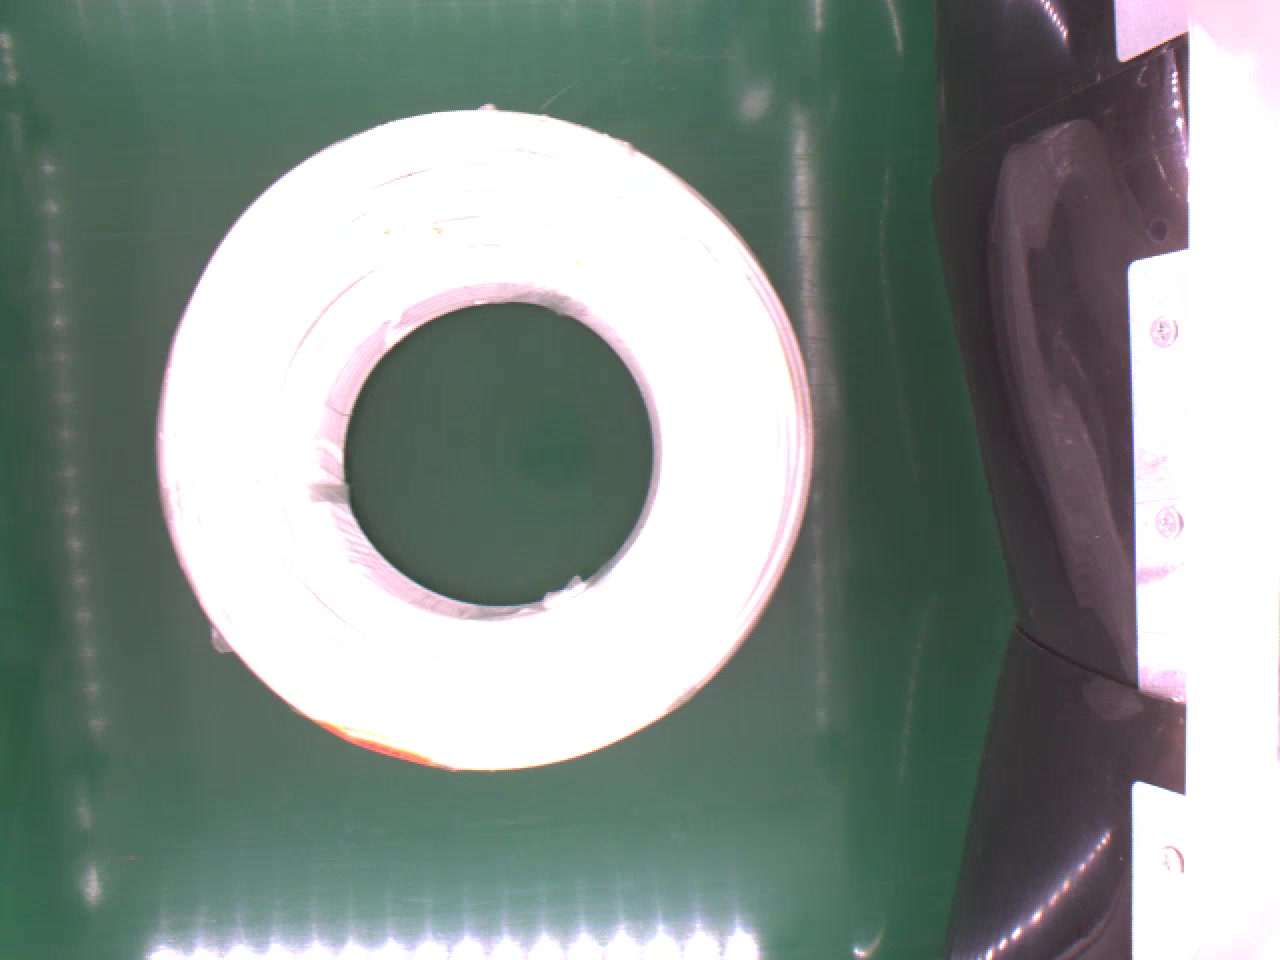white: (155, 102, 821, 787)
